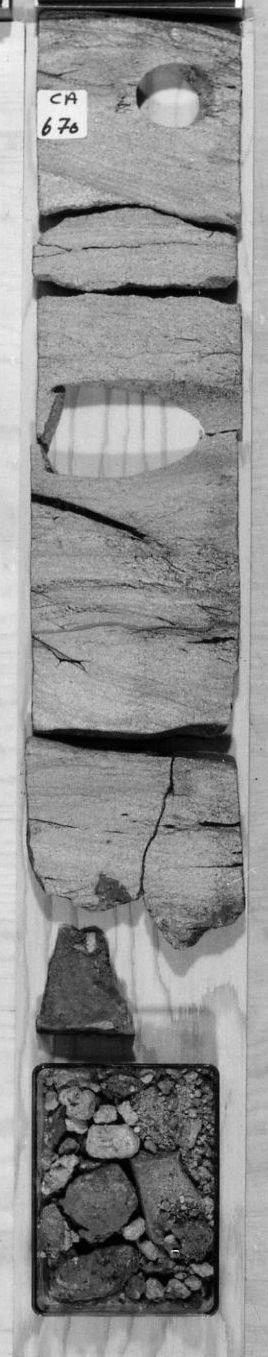hplug: (132, 56, 217, 137)
scal: (39, 367, 237, 487)
